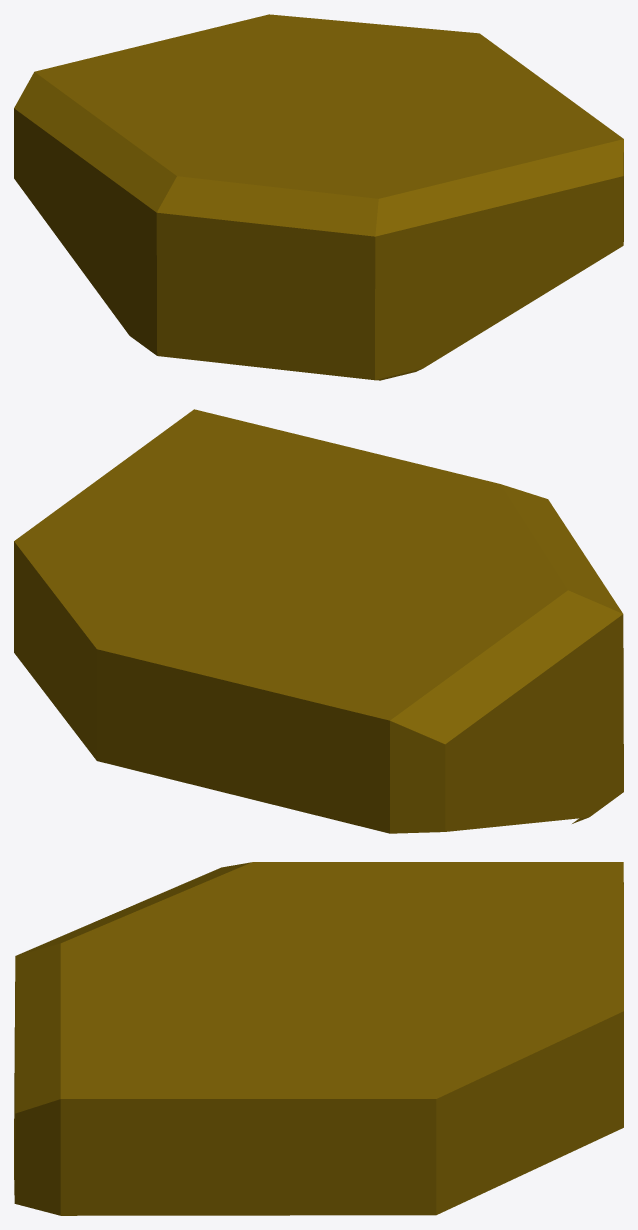
The model's file is mesh_BuildingA_TrimCornerCapRoofInner.fbx.
3 renders of one model, top to bottom at view 1: azimuth 30°, elevation 25°; view 2: azimuth 150°, elevation 25°; view 3: azimuth 270°, elevation 25°, orthographic. The views are drawn at different scales.
Parts seen in each view (by area): view 1: mesh_BuildingA_TrimCornerCapRoofInner; view 2: mesh_BuildingA_TrimCornerCapRoofInner; view 3: mesh_BuildingA_TrimCornerCapRoofInner.
Boxes of the visible parts, x1,y1,x2,y2 form: mesh_BuildingA_TrimCornerCapRoofInner: (14,14,623,380); mesh_BuildingA_TrimCornerCapRoofInner: (14,409,623,833); mesh_BuildingA_TrimCornerCapRoofInner: (14,862,623,1215).
Size of the model in its own units: 54.78 by 22.24 by 54.84.
